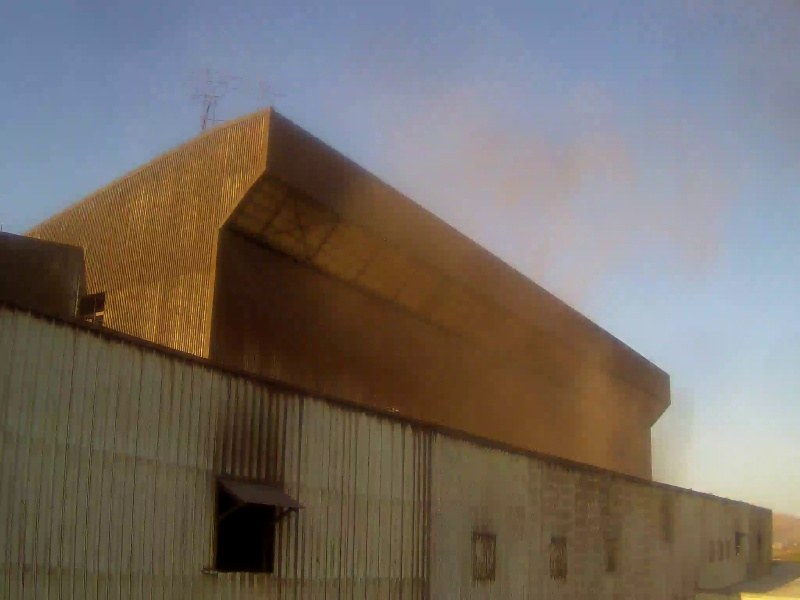pessimo: (355, 66, 706, 486)
